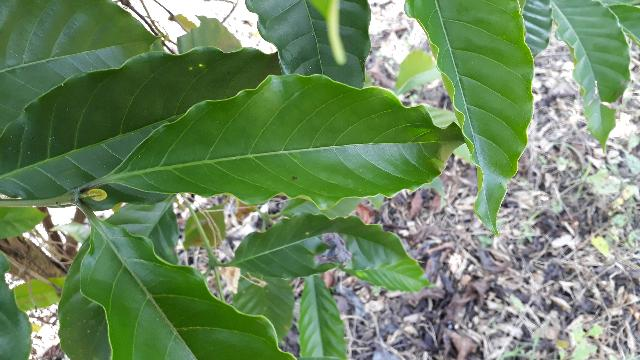healthy: (108, 75, 463, 212)
